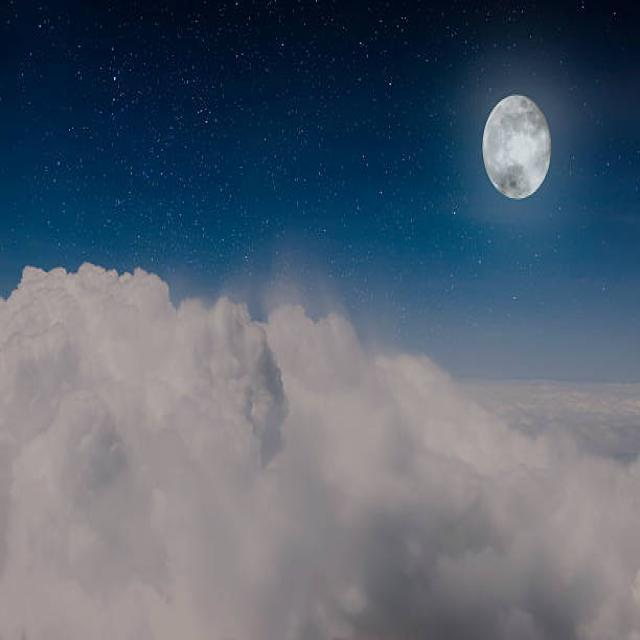moon: (469, 80, 556, 204)
